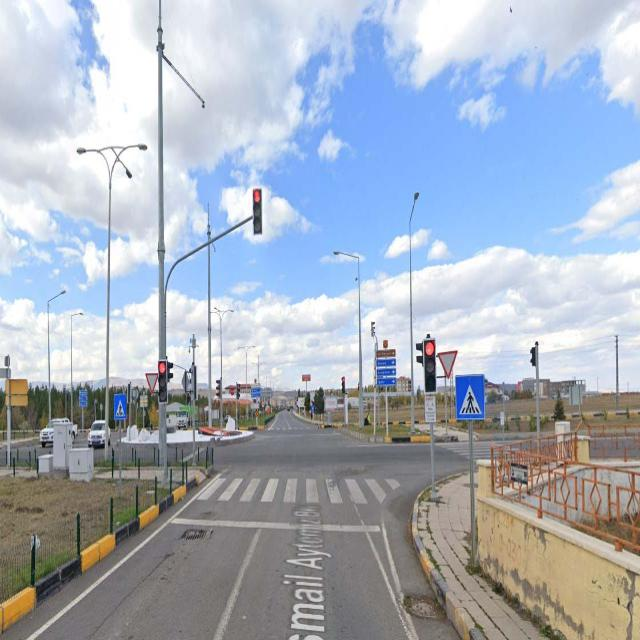kirmizi: (424, 340, 436, 393), (252, 188, 261, 232), (158, 360, 167, 401)
